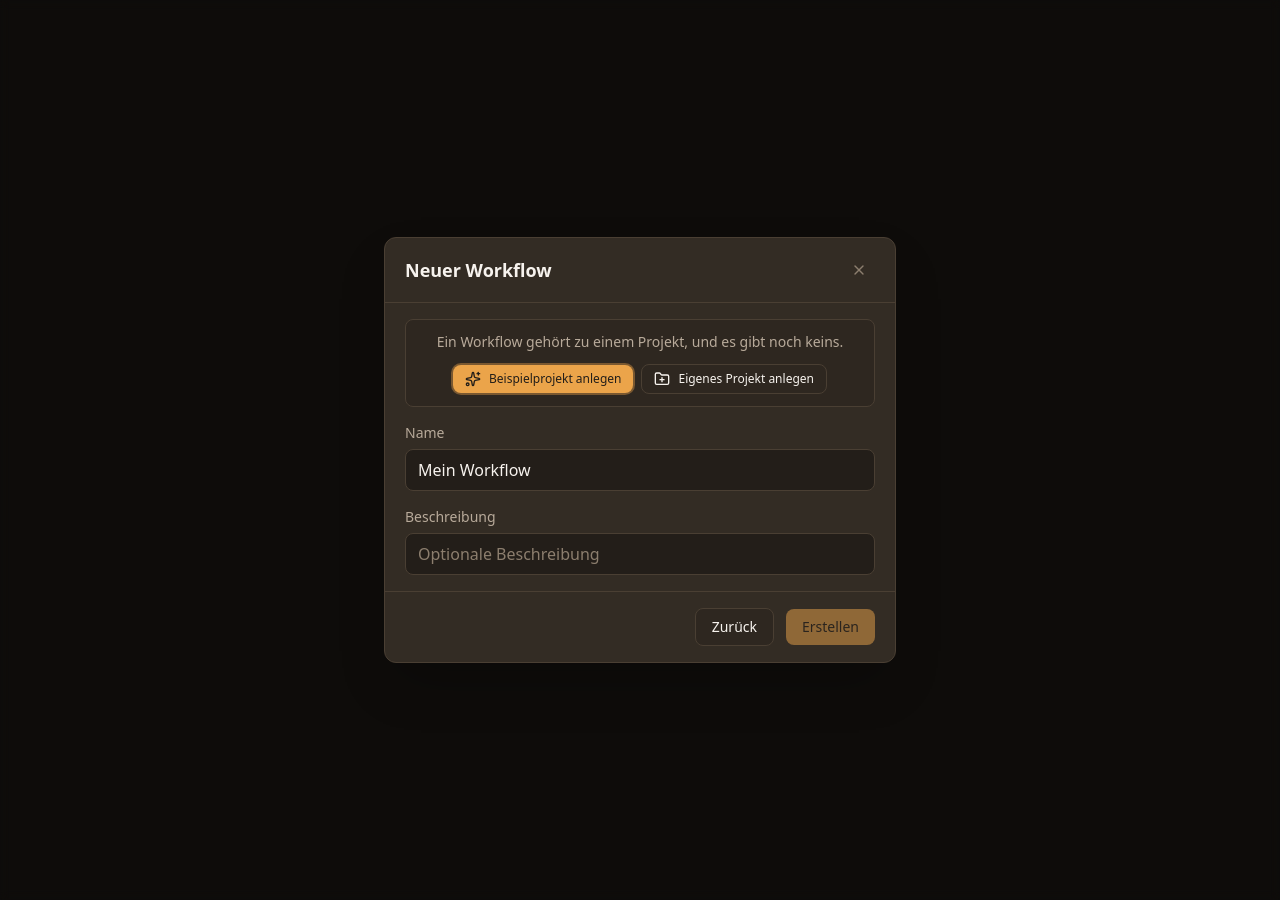
Test: WorkflowCreateFlow in Simple mode › still offers the example project first when there is none
The width and height of the screenshot is (1280, 900).
expect the button "Beispielprojekt anlegen" is shown: met, box 453,365 -> 633,393
Click the button "Eigenes Projekt anlegen" at (734, 379), box 642,364 -> 827,394
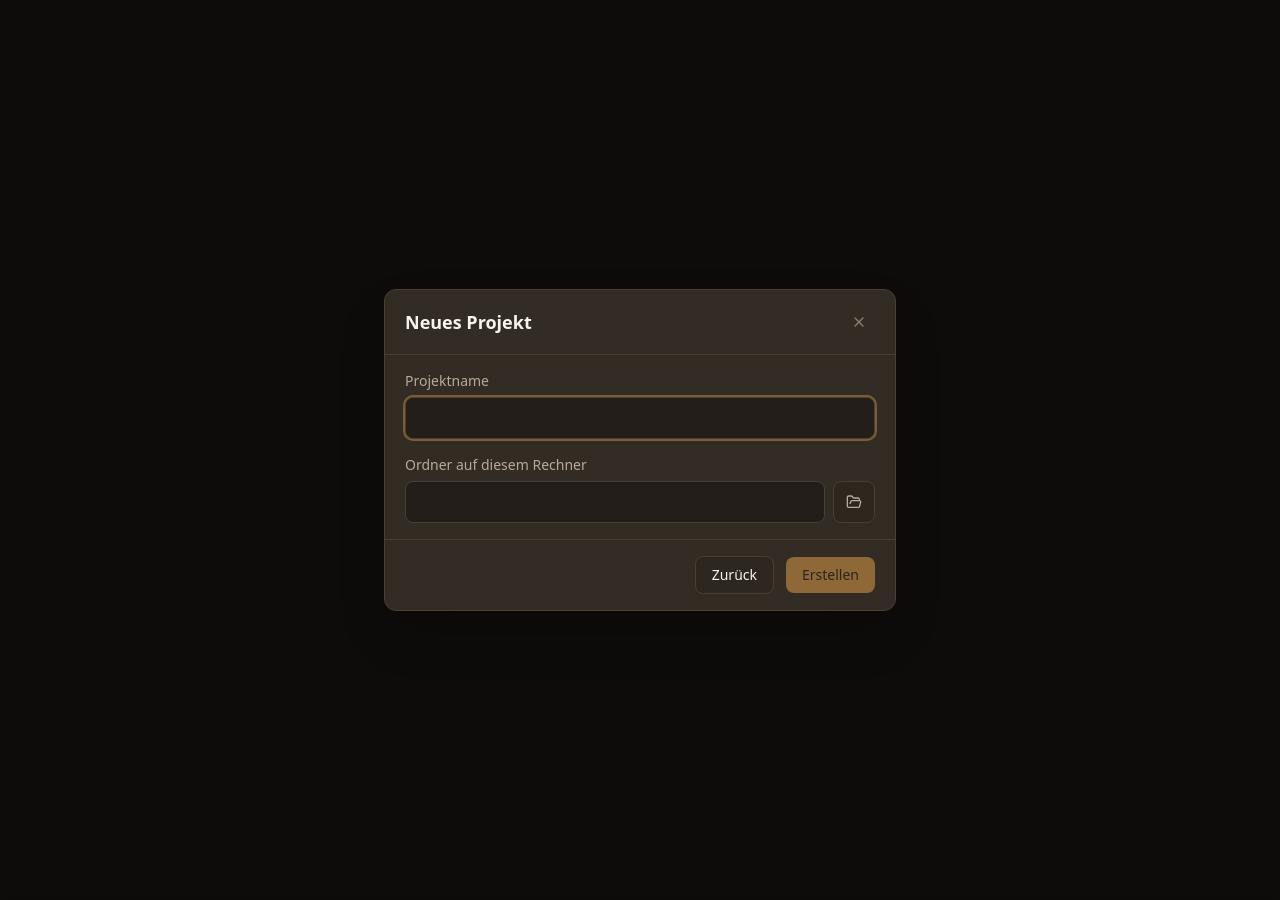
expect the text "Ordner auf diesem Rechner" is shown: met, box 405,455 -> 587,474
